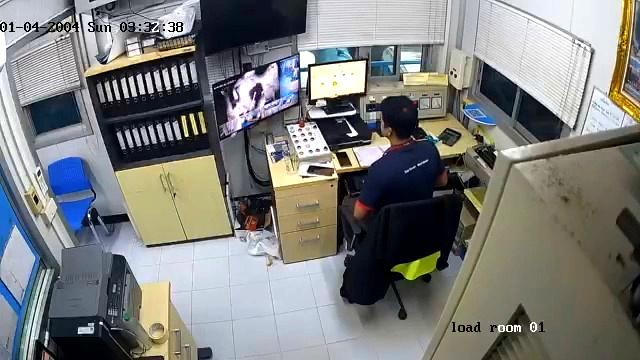Head: (380, 96, 417, 140)
People: (341, 96, 447, 240)
Phone: (307, 165, 333, 175), (336, 152, 351, 166)
